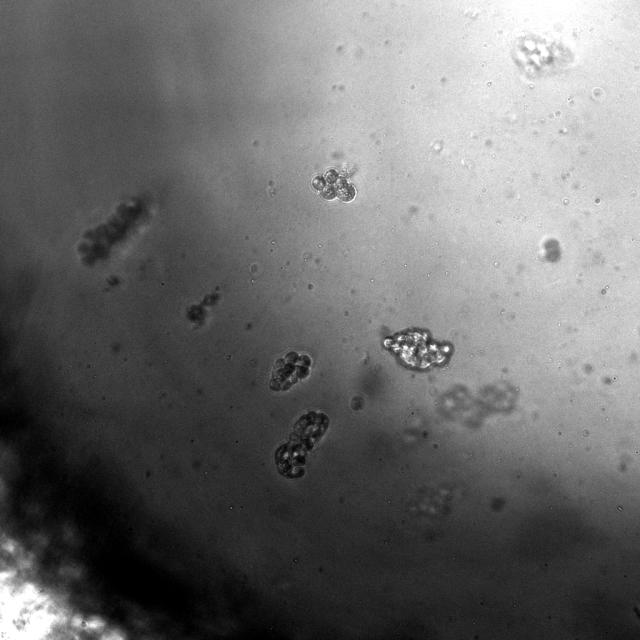organoid: (77, 194, 152, 266), (436, 381, 518, 428), (274, 410, 328, 478), (382, 328, 454, 371), (512, 34, 572, 76), (311, 162, 357, 203), (270, 351, 311, 392), (351, 395, 364, 411)
